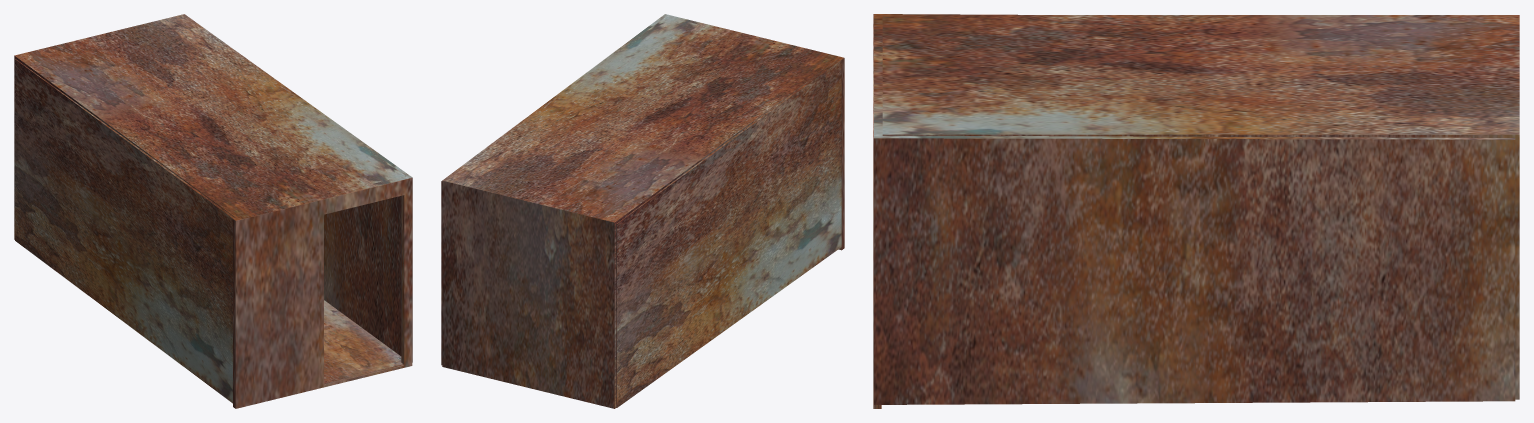
Rendered from factory Container door.FBX.
3 renders of one model, left to right at view 1: azimuth 30°, elevation 25°; view 2: azimuth 150°, elevation 25°; view 3: azimuth 270°, elevation 25°, orthographic. The views are drawn at different scales.
Parts seen in each view (by area): view 1: Container Blue Door; view 2: Container Blue Door; view 3: Container Blue Door.
Part boxes in pixels (box(x1,y1,x2,y2)): Container Blue Door: box(14, 14, 412, 408); Container Blue Door: box(441, 14, 844, 408); Container Blue Door: box(873, 14, 1519, 408).
Bounding box in the file's own units: 284 × 289 × 623.
